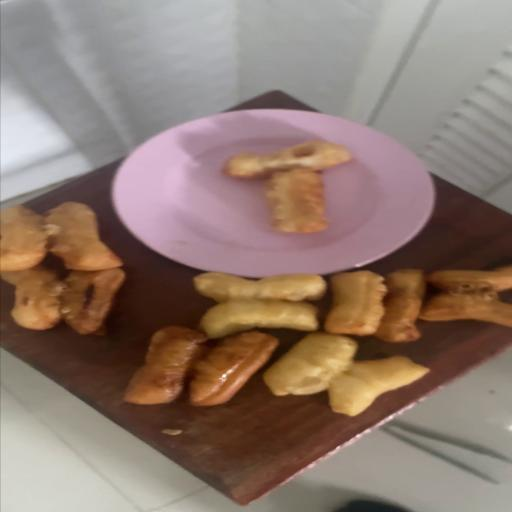street_burnt_defect: (1, 266, 121, 332)
street_golden_good: (192, 272, 324, 338), (3, 202, 122, 270)
